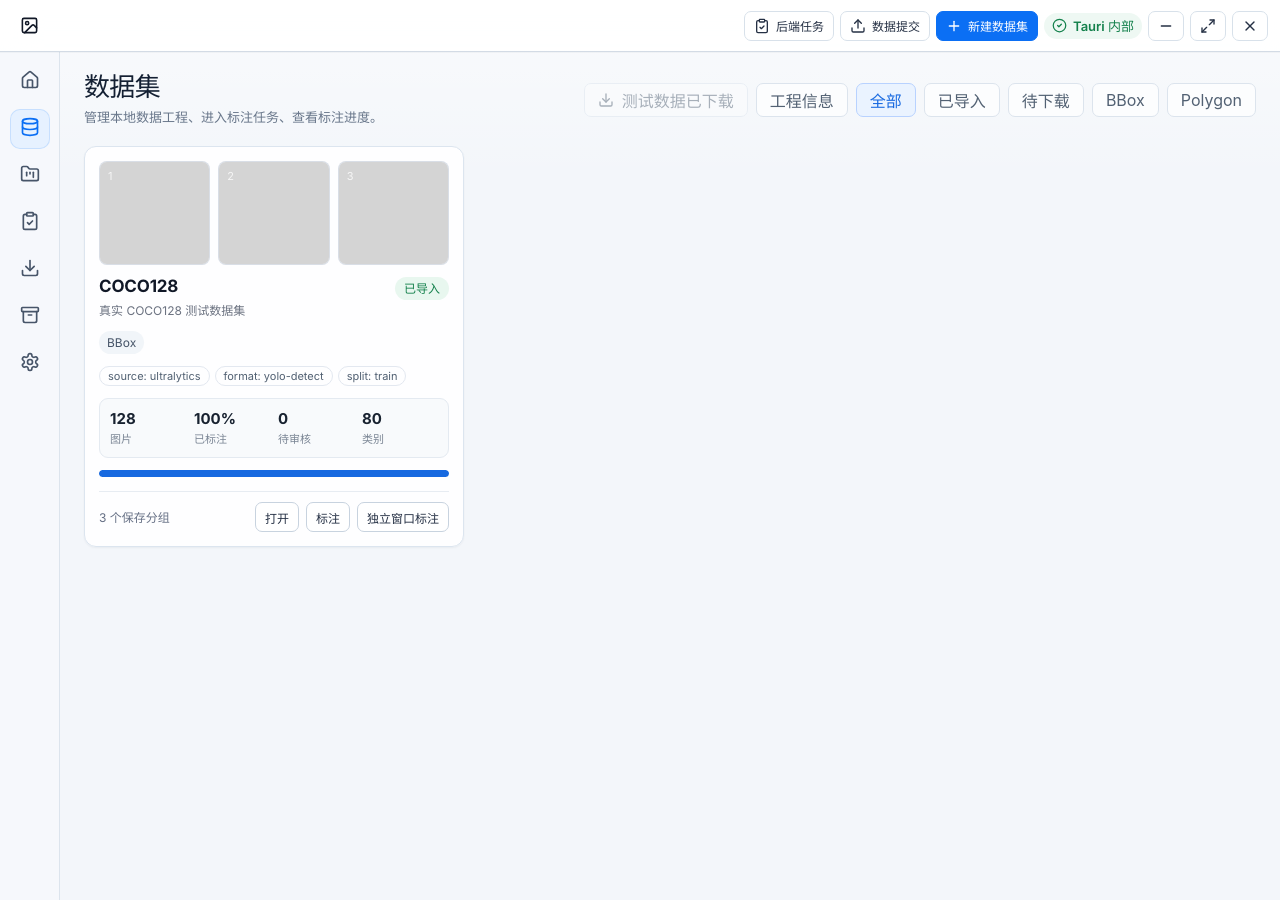
Test: desktop shell › 数据集主页展示手动下载状态，其他内置下载仍位于数据提交弹窗
This screenshot has width=1280, height=900.
Expected: the heading "数据集" is shown, x1=84 y1=72 x2=160 y2=103
Expected: the heading "COCO128" is shown, x1=99 y1=277 x2=178 y2=297
Click the button "数据提交" at (885, 26), box x1=840 y1=10 x2=930 y2=40
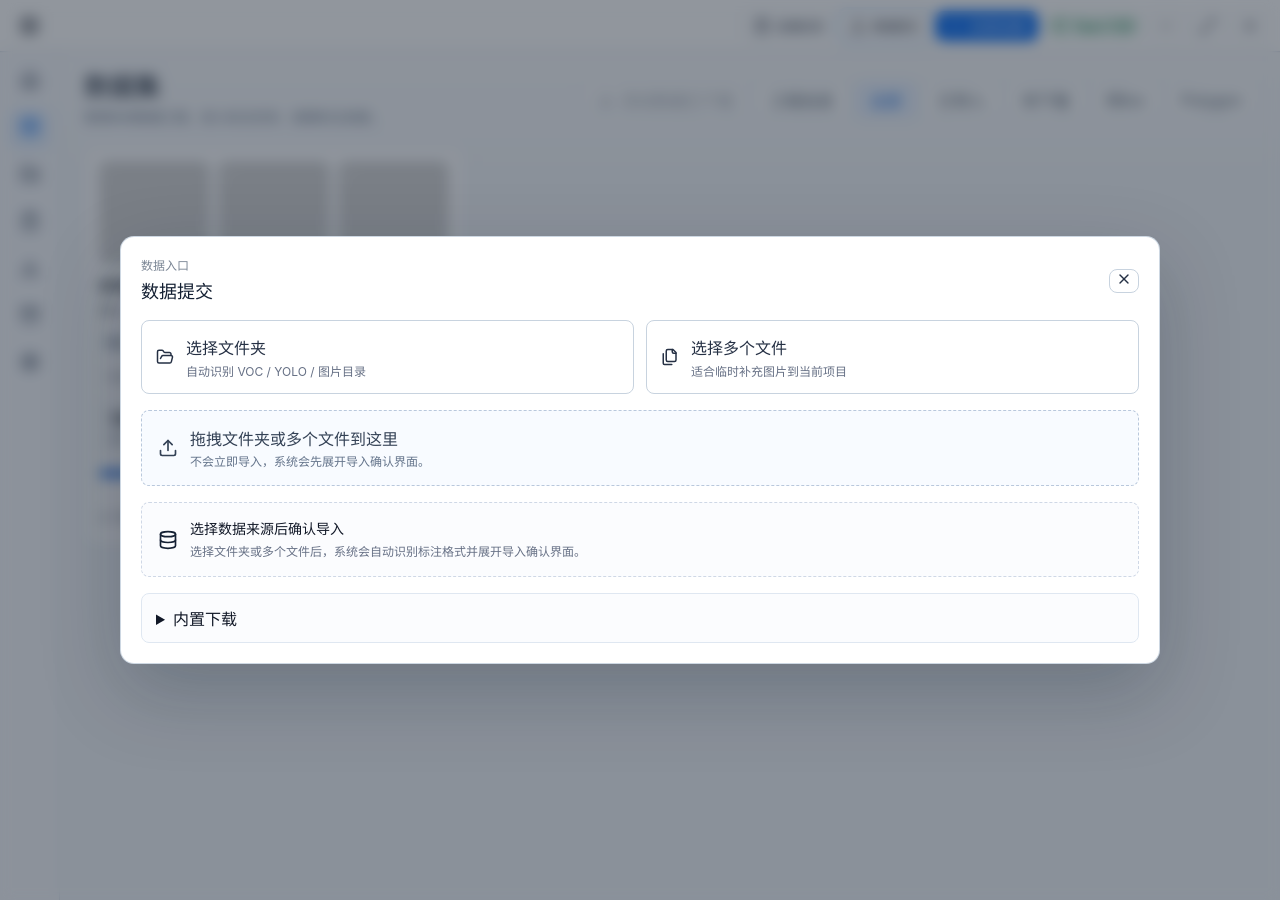
Now the dialog "数据提交" is shown, box x1=120 y1=236 x2=1160 y2=664
Now the button "选择文件夹 自动识别 VOC / YOLO / 图片目录" is shown, box x1=141 y1=320 x2=634 y2=394
Now the button "选择多个文件 适合临时补充图片到当前项目" is shown, box x1=646 y1=320 x2=1139 y2=394
Click the heading "内置下载" at (205, 619), box x1=173 y1=609 x2=237 y2=629
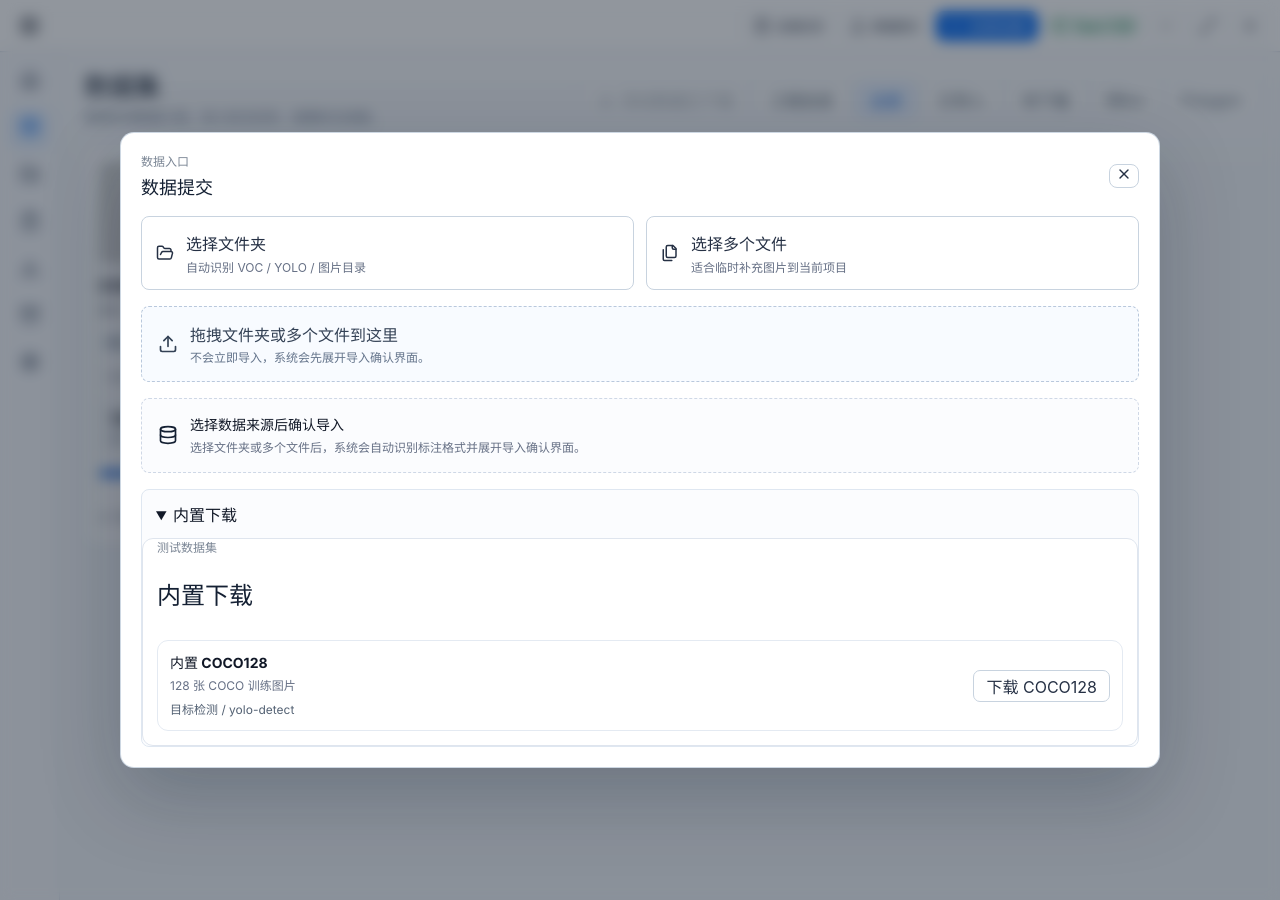
Now the 2nd heading "内置下载" is shown, box x1=157 y1=576 x2=253 y2=610
Now the button "下载 COCO128" is shown, box x1=974 y1=670 x2=1110 y2=702
